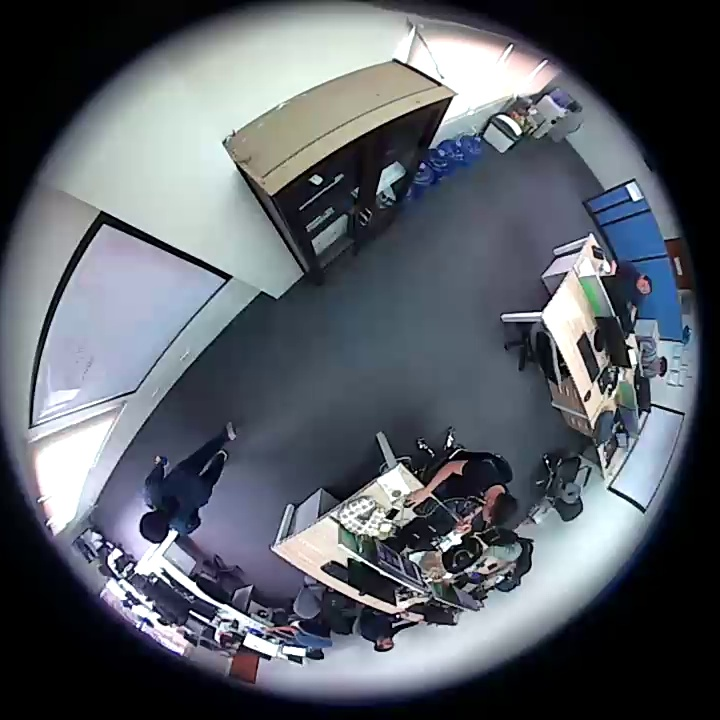RBC: (139, 420, 237, 543), (379, 456, 518, 535), (358, 606, 421, 652), (261, 622, 332, 660), (609, 258, 653, 318), (482, 538, 532, 587), (636, 339, 668, 386), (213, 618, 244, 654)
